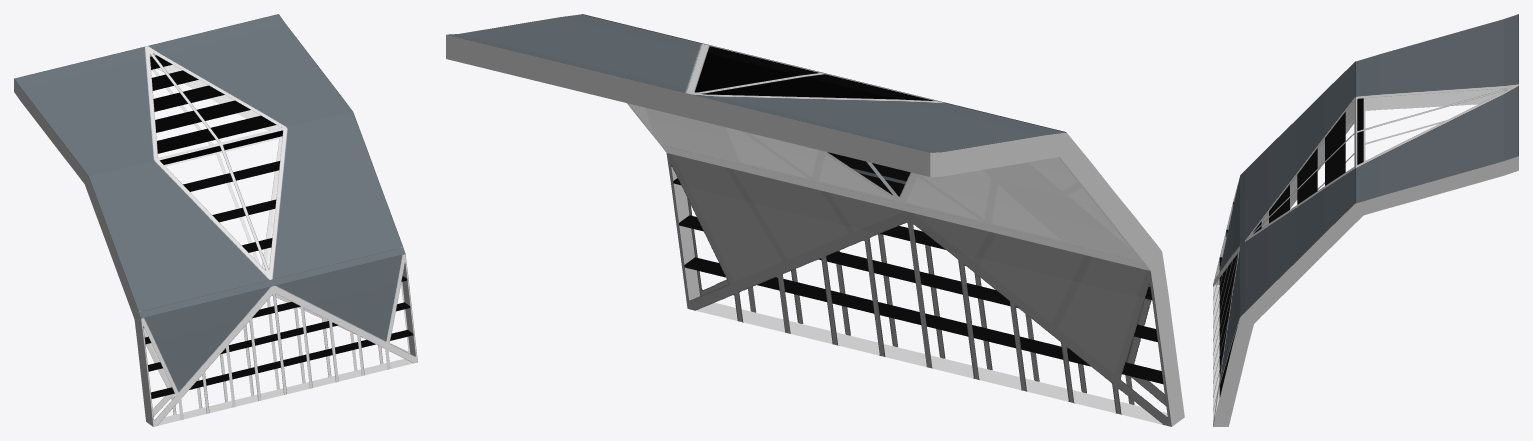
The model's file is dc_metro_roof_j12.obj.
3 views of the same model, side by side, from view 1: azimuth 30°, elevation 25°; view 2: azimuth 150°, elevation 25°; view 3: azimuth 270°, elevation 25° (orthographic). The views are drawn at different scales.
Visible parts, largest first — view 1: cube; view 2: cube; view 3: cube.
Part boxes in pixels (bbox=[...]): cube: bbox=[14, 14, 417, 426]; cube: bbox=[446, 14, 1184, 426]; cube: bbox=[1213, 14, 1518, 426].
Size of the model in its own units: 11 by 9.79 by 10.02.
3 materials, 3 textured.
